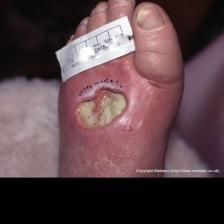Wound: (69, 82, 133, 128)
